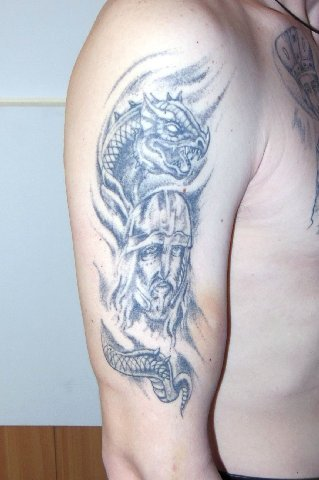tatu6_drakon: (89, 64, 230, 420)
